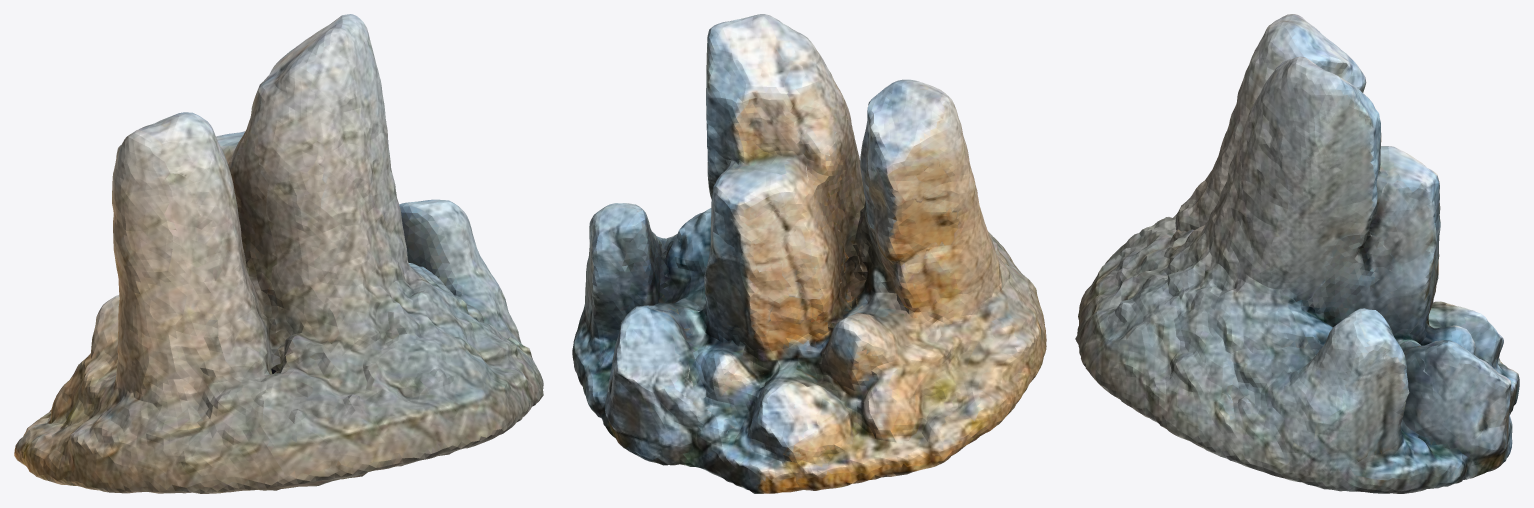
The picture shows the model from 3 angles, left to right: view 1: azimuth 30°, elevation 25°; view 2: azimuth 150°, elevation 25°; view 3: azimuth 270°, elevation 25°; orthographic projection. The views are drawn at different scales.
Parts seen in each view (by area): view 1: world; view 2: world; view 3: world.
Boxes of the visible parts, left/top/right/bottom form: world: left=14, top=14, right=543, bottom=493; world: left=572, top=14, right=1046, bottom=493; world: left=1075, top=14, right=1519, bottom=493.
Size of the model in its own units: 0.9524 by 0.8332 by 0.8551.
1 material, 1 textured.
